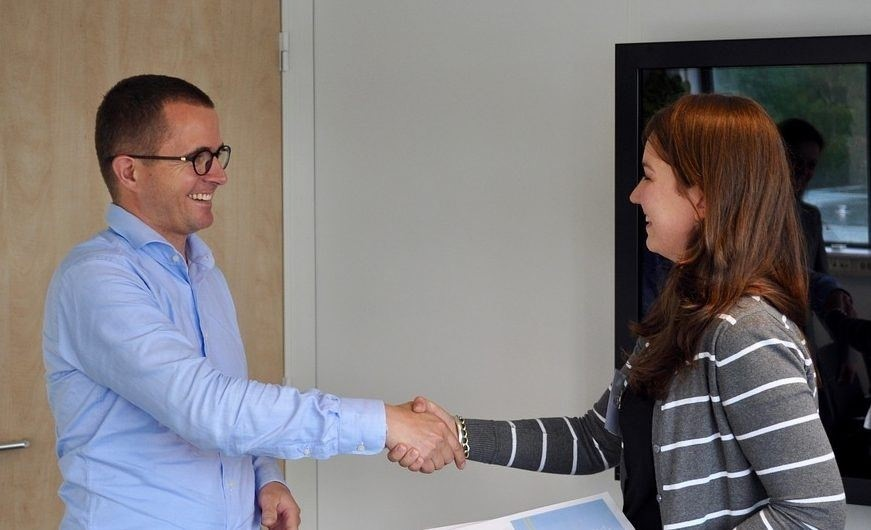face_no_mask: (631, 95, 777, 256), (99, 76, 228, 235)
